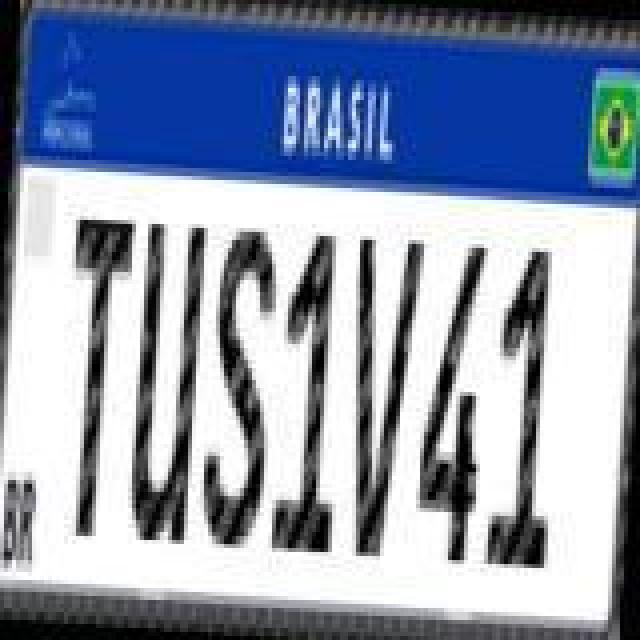1: (482, 240, 574, 576), (268, 226, 356, 558)
4: (414, 236, 498, 572)
S: (196, 220, 284, 556)
T: (54, 210, 138, 542)
U: (124, 218, 212, 550)
V: (338, 232, 430, 568)
